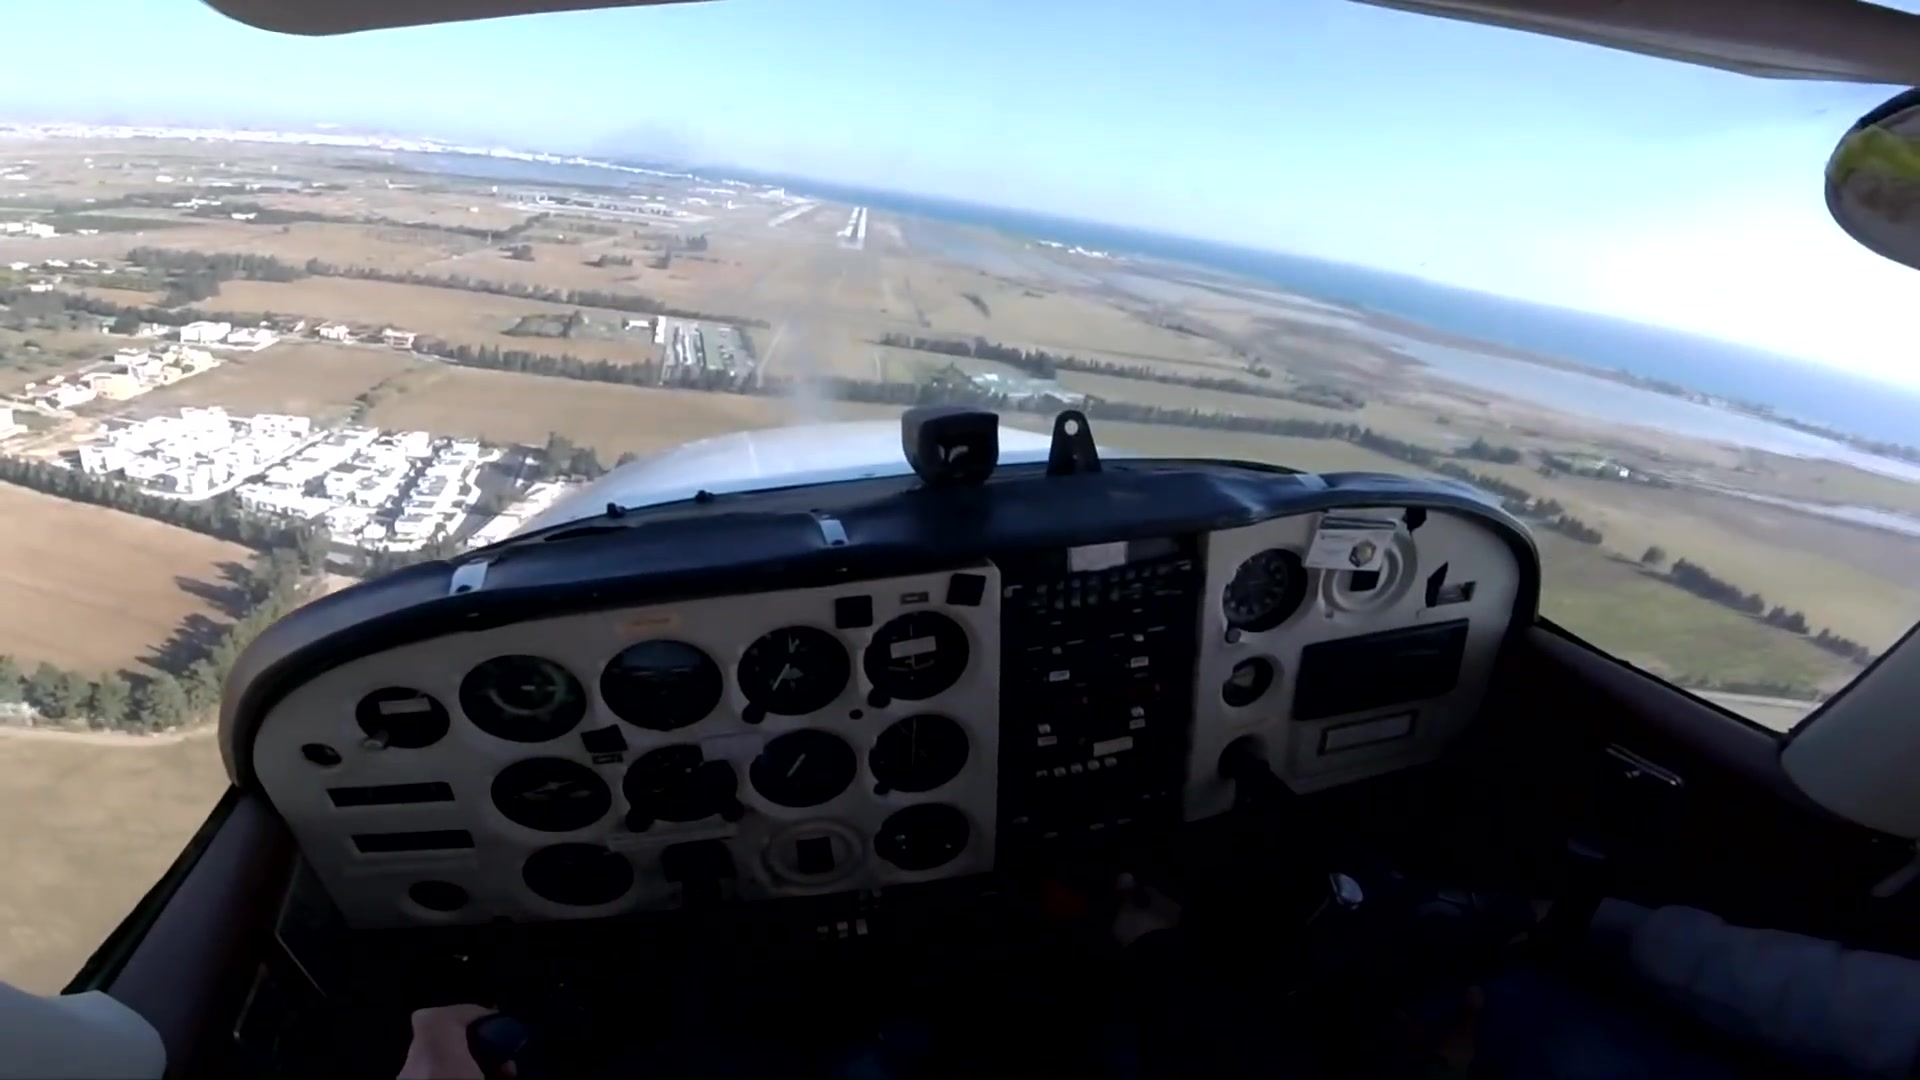runway: (835, 204, 870, 253)
